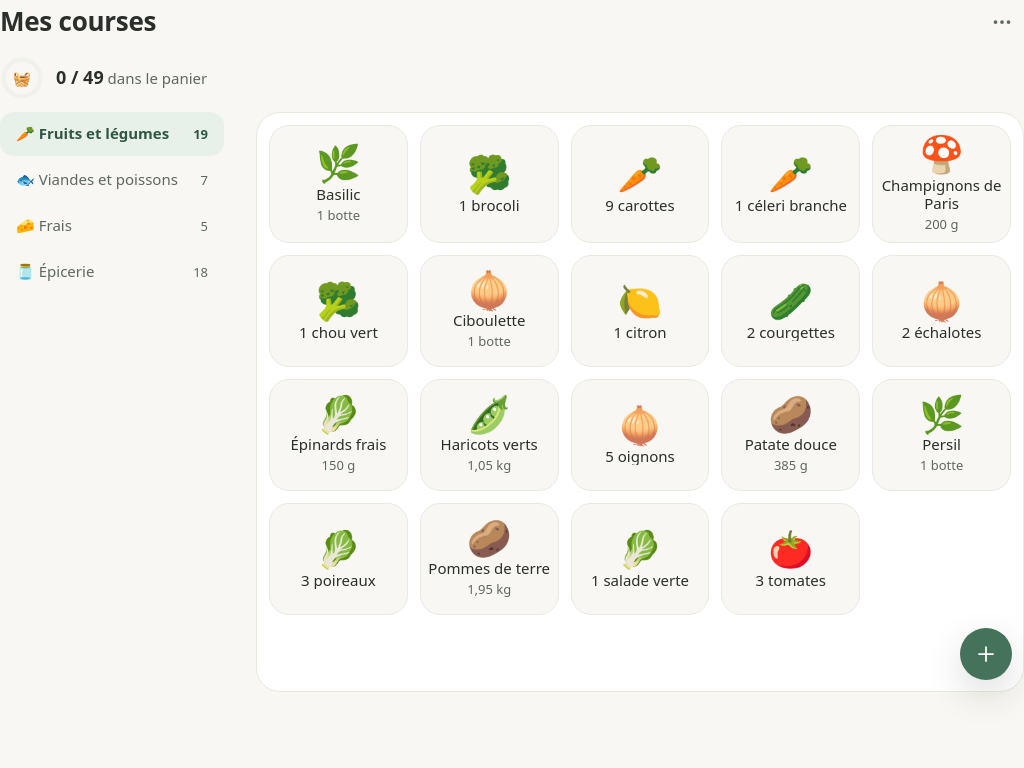
Scenario: <ShoppingPage /> › partage, sinon copie avec un message
What coordinates should you click on to do the following:
click the button named "Plus d’options"
I would click on:
 (1002, 22)
Its box is [980,0,1023,44].
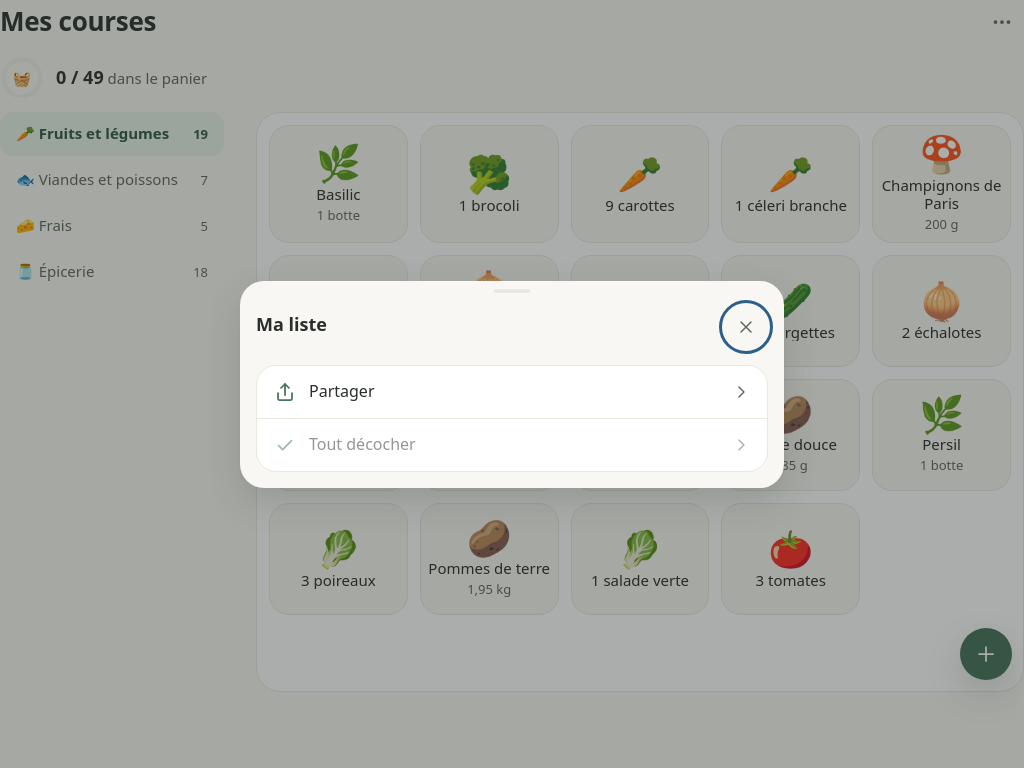
What coordinates should you click on to do the following:
click the button "Partager"
I would click on:
 (342, 391)
Its box is [257,366,767,418].
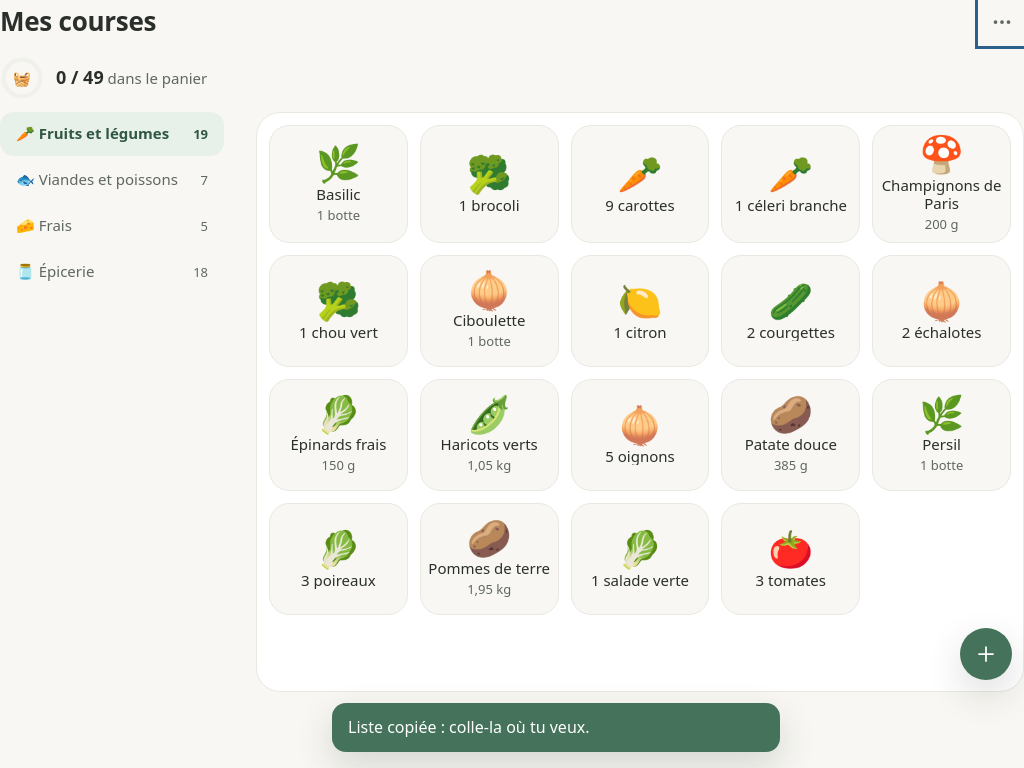
Result: the text "Liste copiée : colle-la où tu veux." is shown at [332,703,780,752]
